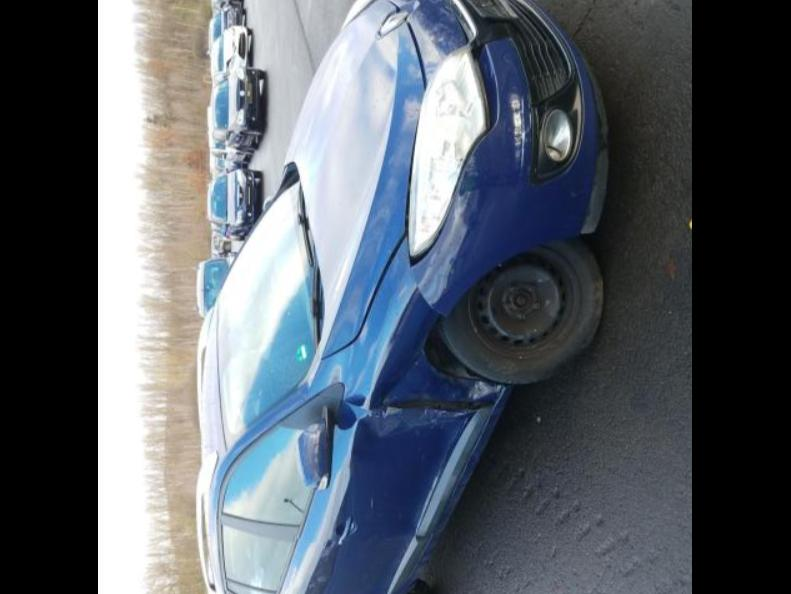Broken part: (408, 188, 460, 321), (348, 389, 506, 418), (403, 568, 426, 592)
Dent: (372, 316, 506, 403), (346, 408, 470, 502), (464, 448, 480, 472)
Flaking: (582, 86, 610, 230), (462, 154, 482, 176)
Missing part: (471, 246, 580, 354)
Paint chip: (420, 408, 476, 428), (466, 382, 504, 402), (372, 404, 406, 423)
Scratch: (448, 386, 510, 502), (414, 466, 440, 530), (350, 520, 358, 534), (370, 495, 376, 506)
